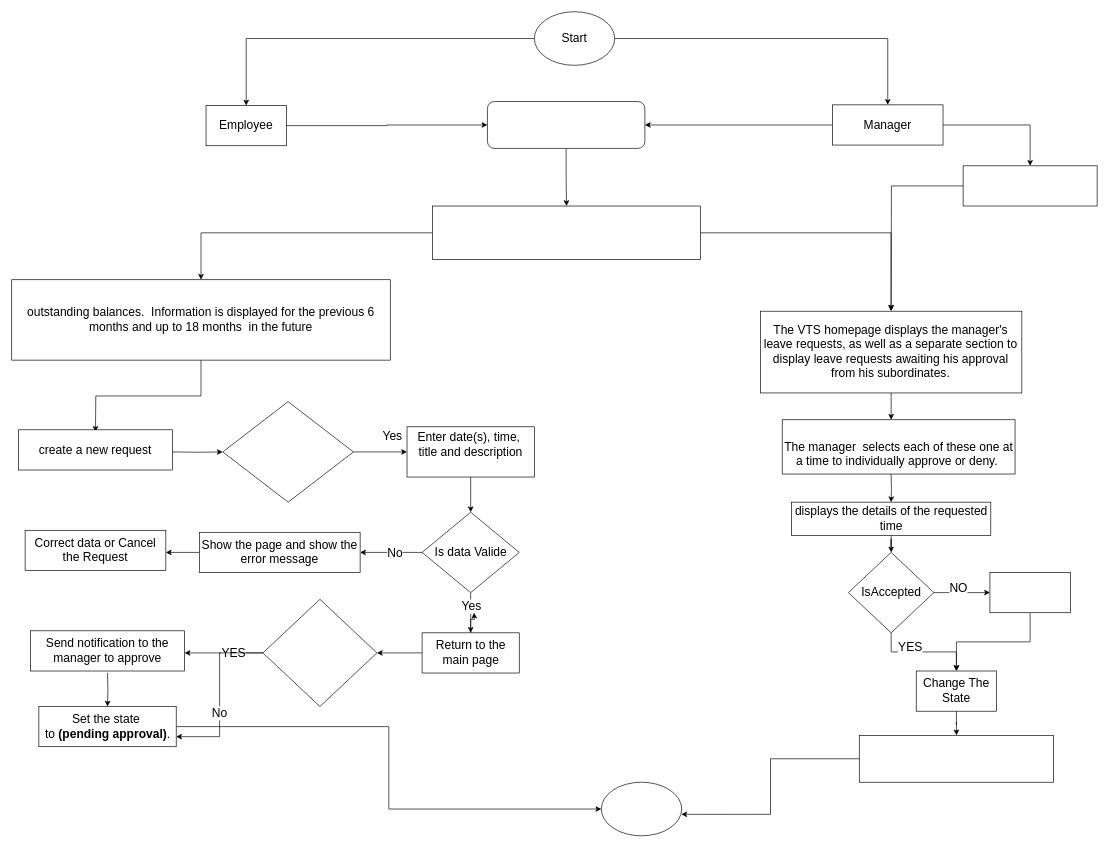
This 1109x848 diagram has some shape labels left out. The centre of each missing label's shape, as x and y in pixels:
"An email notification is sent immediately to the employee." belongs at (x=956, y=758).
"clicking on a link embedded in the e-mail" belongs at (x=1029, y=185).
"END" belongs at (x=641, y=809).
"enter an explanation" belongs at (x=1029, y=592).
"Enter to internal portal to access VTS System" belongs at (x=566, y=124).
"If Balance is positive balance" belongs at (x=287, y=451).
"Need to Manager approve" belongs at (x=319, y=653).
"use the employee’s credentials to look up the current status" belongs at (x=566, y=232).
